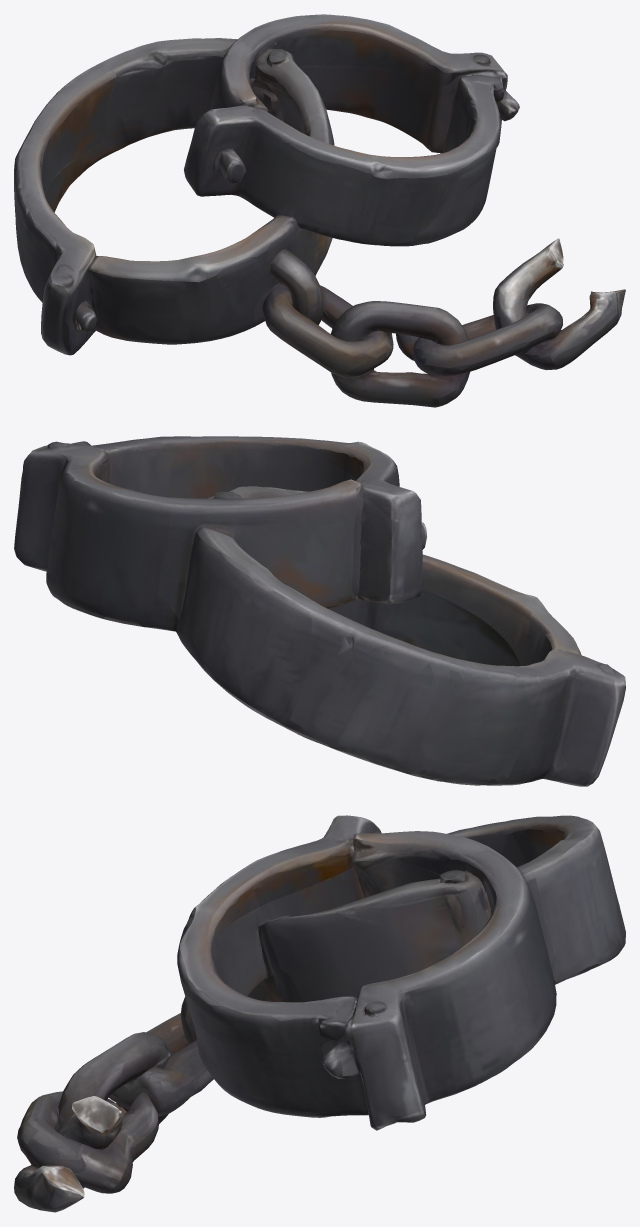
The model's file is shackle_chain.glb.
3 views of the same model, one above another, from view 1: azimuth 30°, elevation 25°; view 2: azimuth 150°, elevation 25°; view 3: azimuth 270°, elevation 25° (orthographic). The views are drawn at different scales.
Parts seen in each view (by area): view 1: geometry_0; view 2: geometry_0; view 3: geometry_0.
Boxes of the visible parts, <box> form: geometry_0: <box>14,14,625,407</box>; geometry_0: <box>14,436,625,786</box>; geometry_0: <box>14,815,625,1212</box>.
Bounding box in the file's own units: 0.25 × 0.1246 × 0.2272.
Materials: 1 (1 with a texture image).
